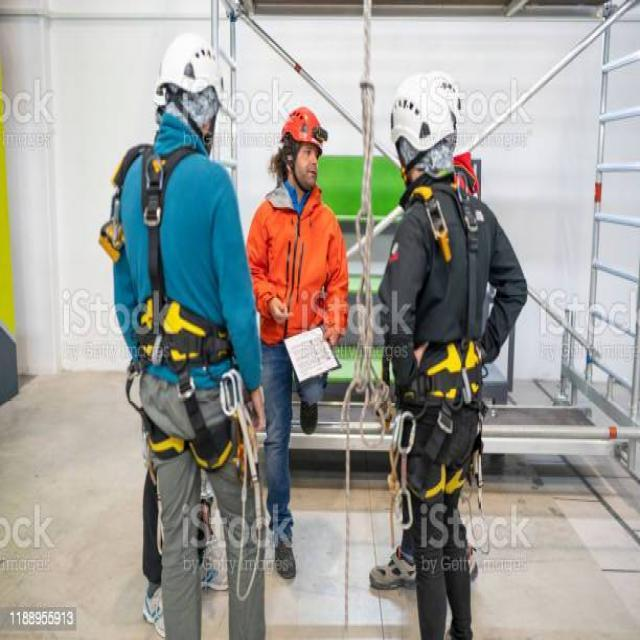belt: (129, 140, 247, 472), (394, 171, 488, 508)
